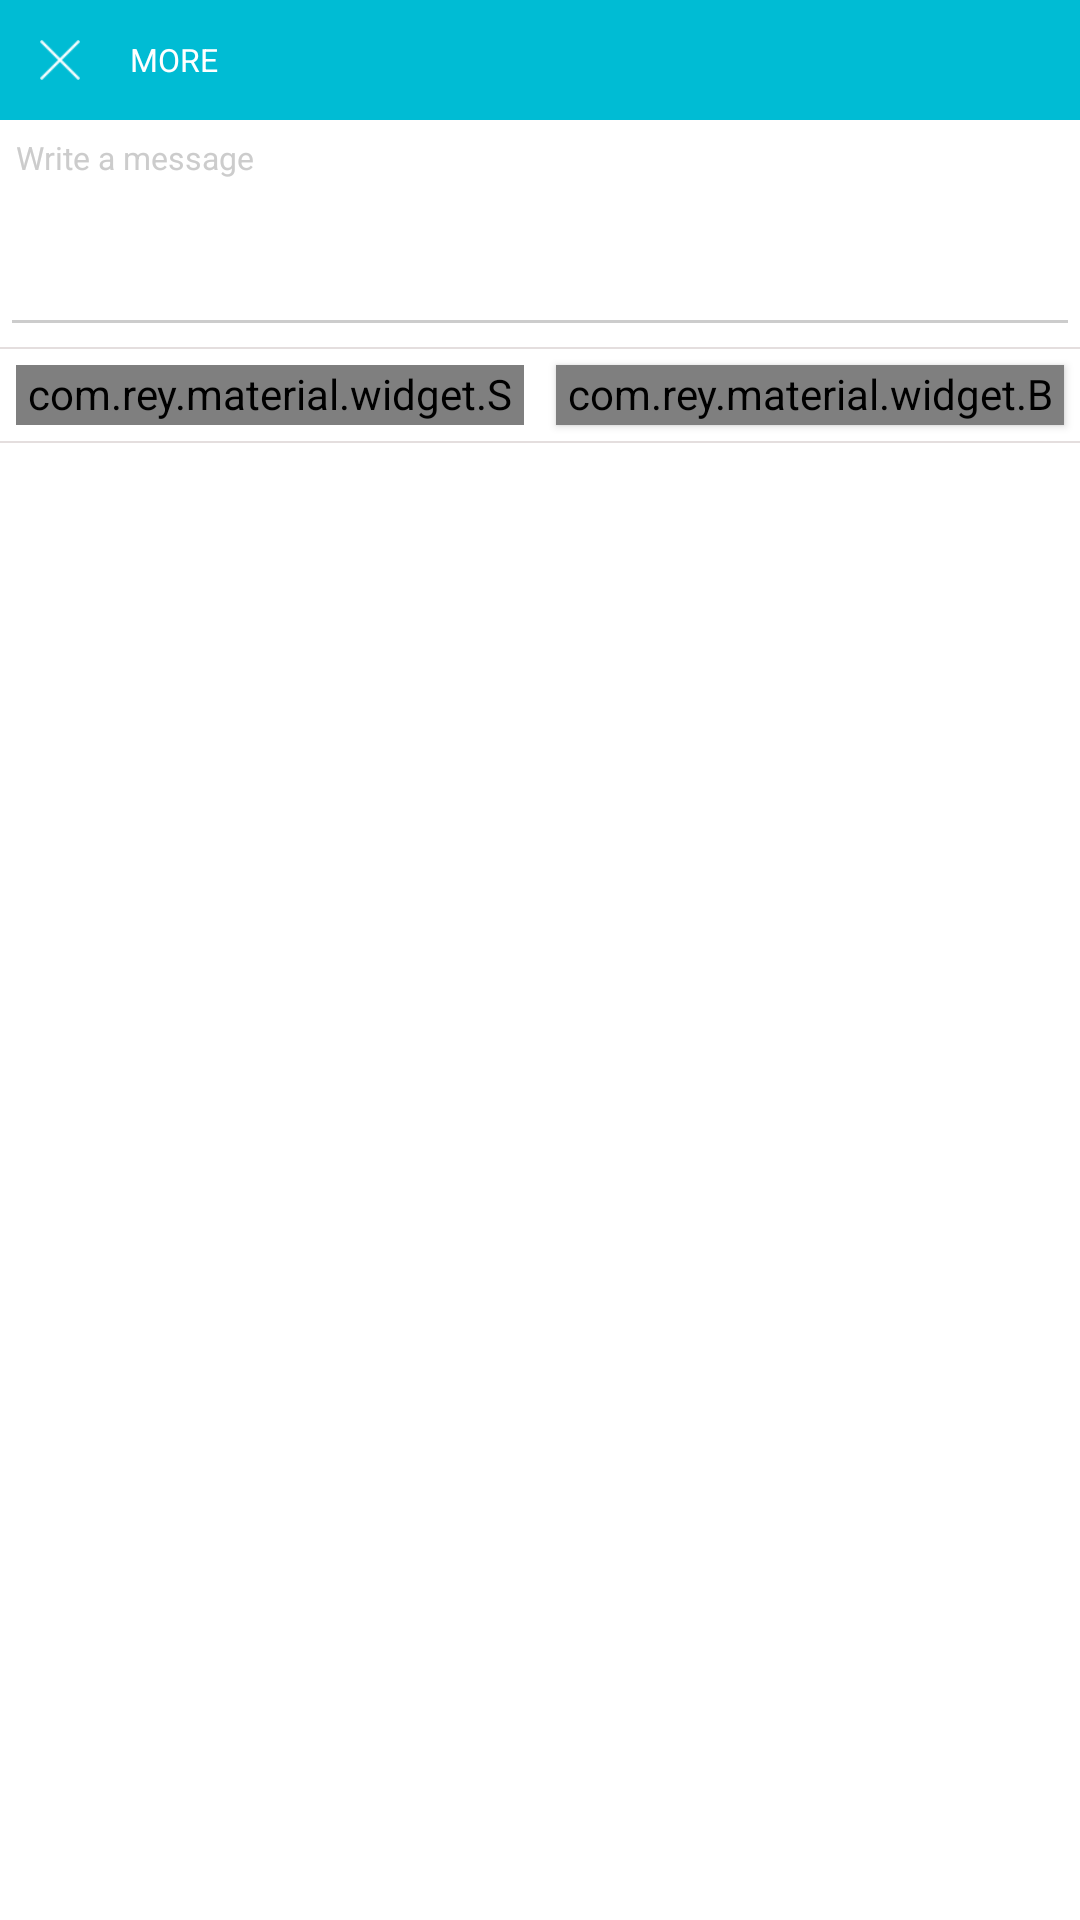

Where icons sit on this 1080 x 1920 app screen, as (x1, y1, x2, y2):
cancel event: (40, 40, 80, 80)
